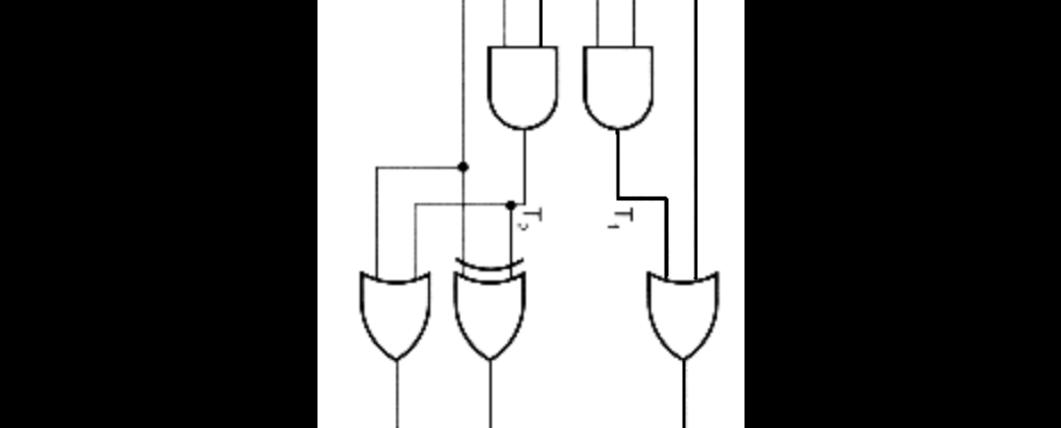and: (470, 35, 568, 144), (576, 33, 660, 142)
or: (632, 256, 738, 369), (348, 261, 436, 367)
xor: (444, 250, 538, 368)
